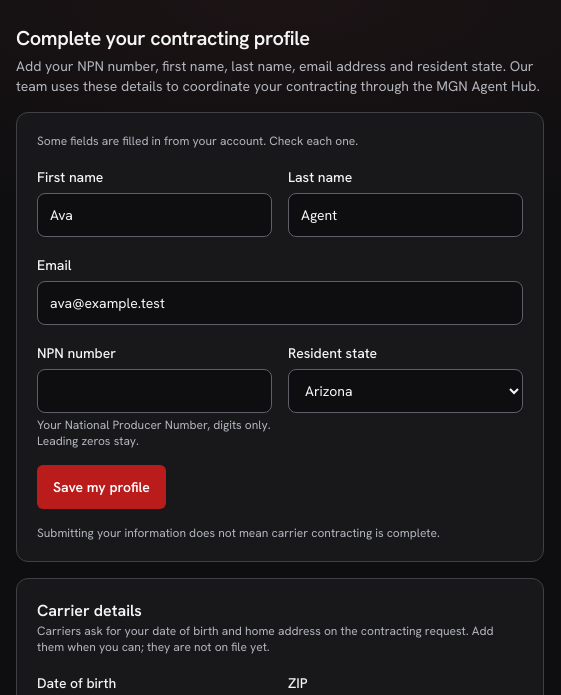
Test: Complete your contracting profile › explains a malformed NPN without a round trip
Check: the field labelled "First name" is shown, box [37,193,272,237]
Type "12-34" into the field labelled "NPN number". click: (154, 391)
box: [37,369,272,413]
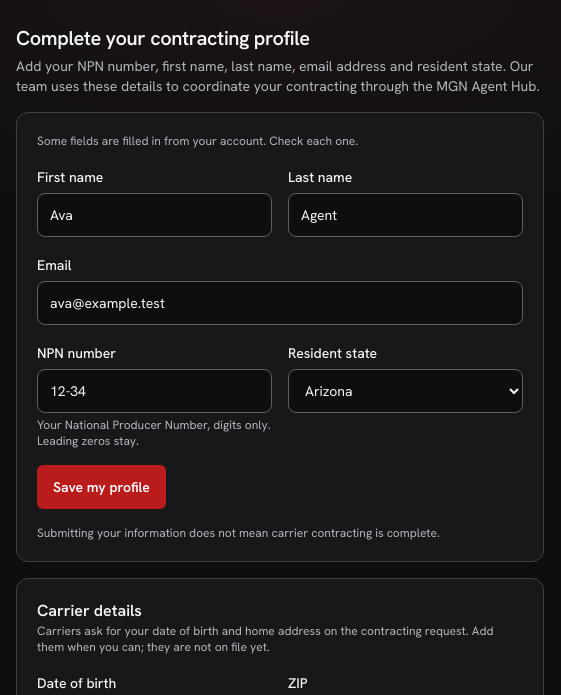
Click the button "Save my profile". click: click(102, 487)
box: [37,465,166,509]
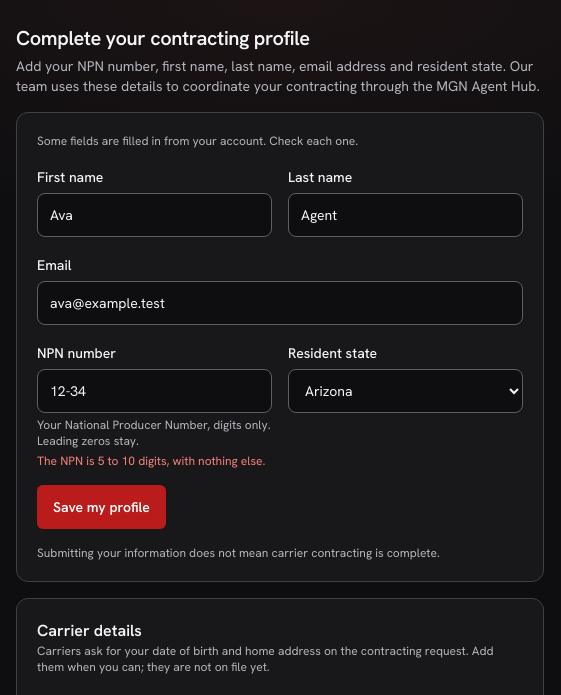
Check: the message shows "5 to 10 digits", box [37,453,265,469]
